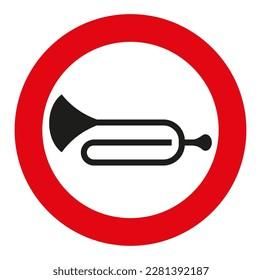Horn Prohibited: (13, 8, 257, 248)
